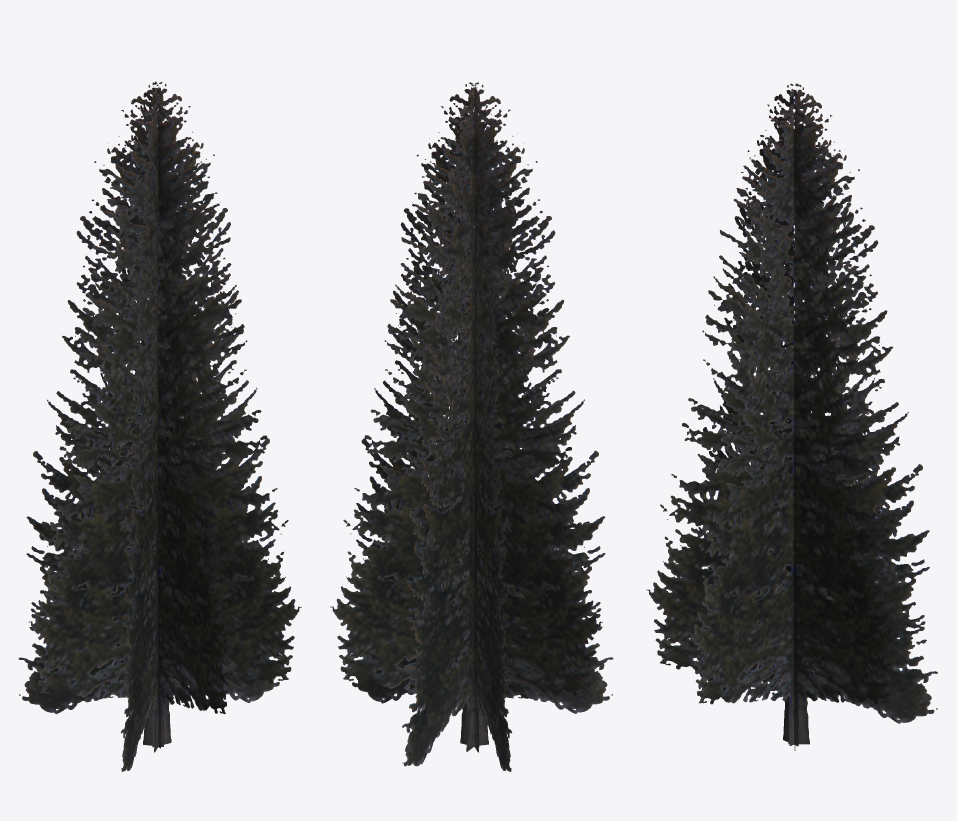
File: Tree8.fbx
3 renders of one model, left to right at view 1: azimuth 30°, elevation 25°; view 2: azimuth 150°, elevation 25°; view 3: azimuth 270°, elevation 25°, orthographic.
Visible parts, largest first — view 1: tree9; view 2: tree9; view 3: tree9.
Part boxes in pixels (<box>): tree9: <box>18,81,301,771</box>; tree9: <box>330,82,613,771</box>; tree9: <box>646,83,937,750</box>.
Bounding box in the file's own units: 365 × 907 × 365.
